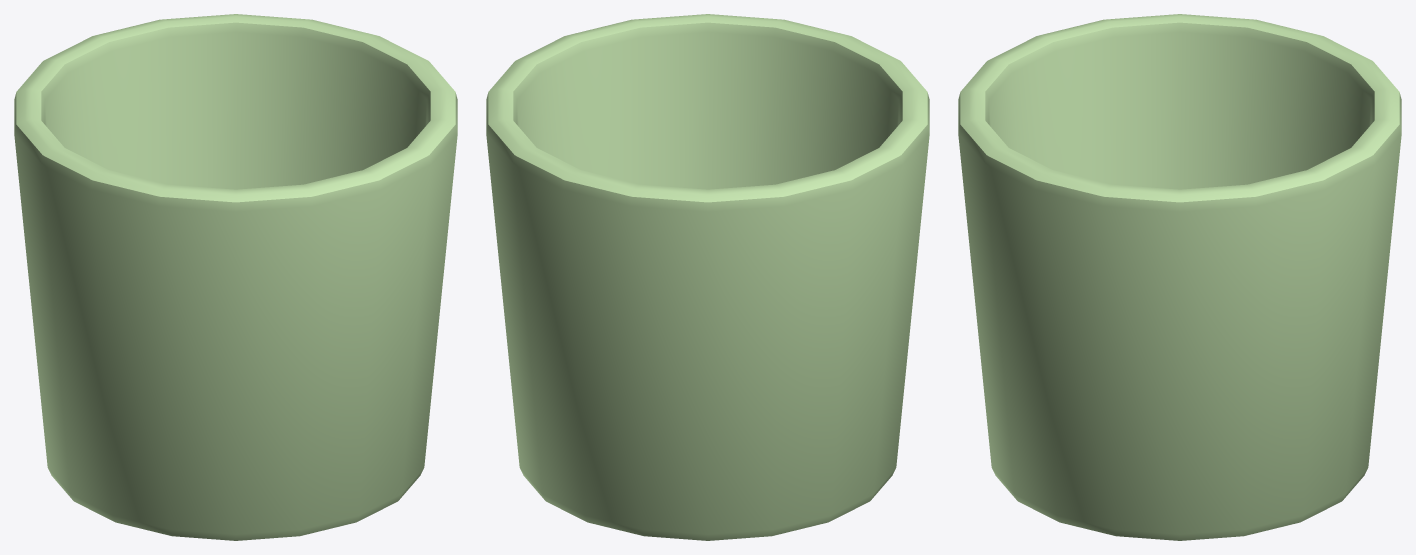
The model's file is chabei.fbx.
3 renders of one model, left to right at view 1: azimuth 30°, elevation 25°; view 2: azimuth 150°, elevation 25°; view 3: azimuth 270°, elevation 25°, orthographic.
Parts seen in each view (by area): view 1: 杯子; view 2: 杯子; view 3: 杯子.
Boxes of the visible parts, left/top/right/bottom form: 杯子: left=14, top=14, right=457, bottom=540; 杯子: left=486, top=14, right=929, bottom=540; 杯子: left=958, top=14, right=1401, bottom=540.
Size of the model in its own units: 1.24 by 1.1 by 1.22.
